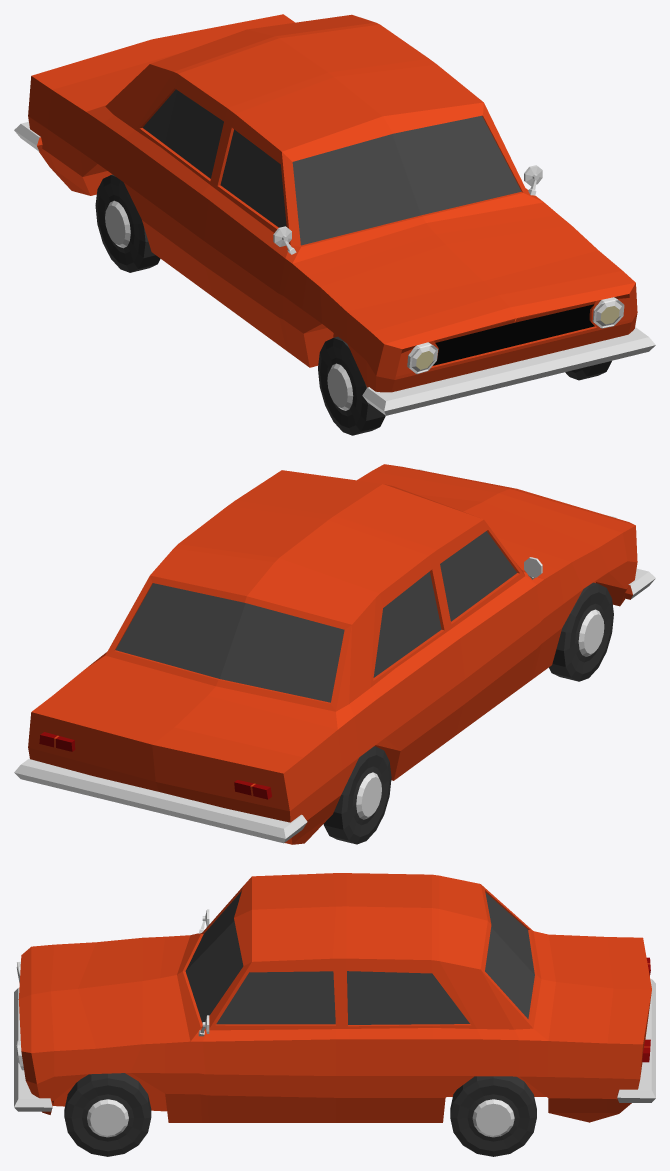
3 renders of one model, top to bottom at view 1: azimuth 30°, elevation 25°; view 2: azimuth 150°, elevation 25°; view 3: azimuth 270°, elevation 25°, orthographic. The views are drawn at different scales.
Visible parts, largest first — view 1: Cube; view 2: Cube; view 3: Cube.
Boxes of the visible parts, left/top/right/bottom form: Cube: left=14, top=14, right=655, bottom=435; Cube: left=14, top=464, right=655, bottom=844; Cube: left=14, top=873, right=655, bottom=1156.
Bounding box in the file's own units: 312 × 251 × 736.
